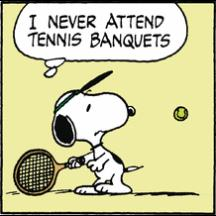snoopy: (14, 89, 144, 195)
